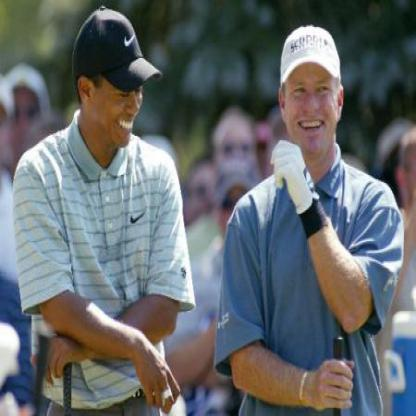face: (91, 25, 151, 151), (284, 29, 340, 161), (3, 69, 47, 159), (220, 120, 256, 192), (183, 164, 220, 228)
